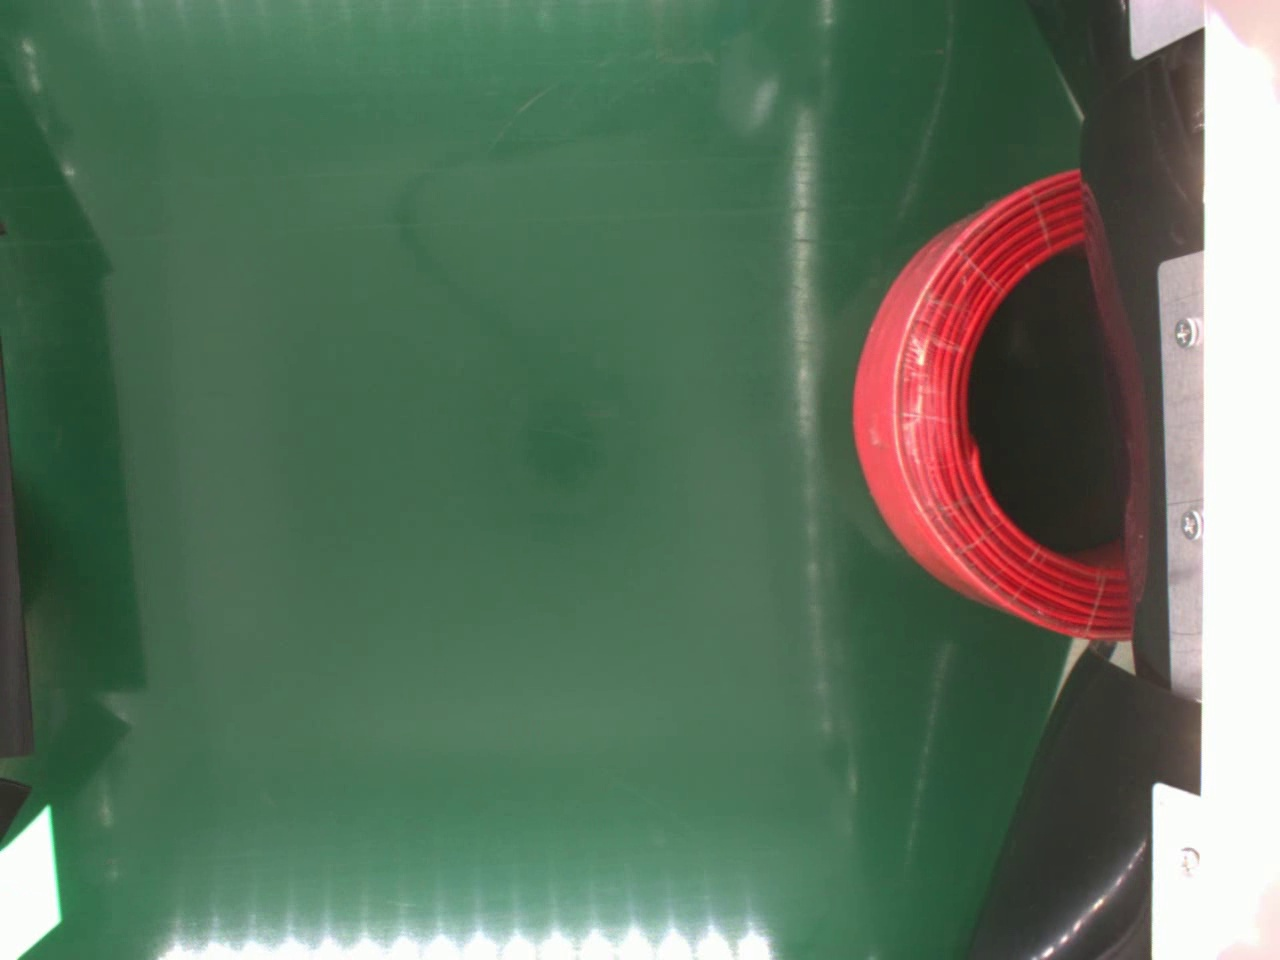red: (851, 163, 1132, 643)
